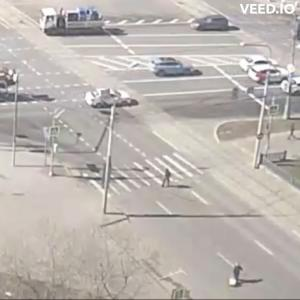car: (36, 6, 106, 36), (86, 90, 139, 112), (248, 61, 294, 86), (150, 58, 199, 79), (192, 17, 239, 34), (240, 56, 273, 74)
